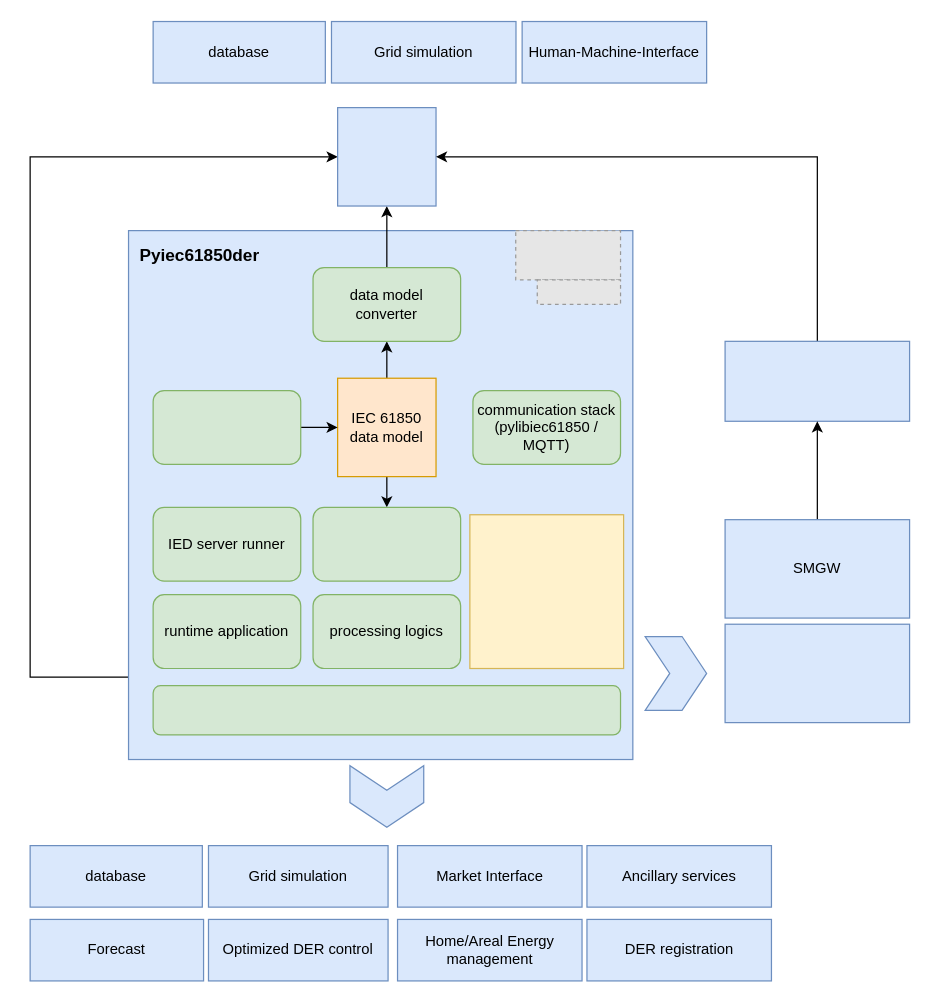
The diagram is 931 pixels wide and 1002 high, and some of its shapes have lost their labels. Grey dashed boxes stand in for pictures. The shapes that lost their labels are listed below. From the top down, each one's box as (x1, y1, x2, y2) in pixels, then its label:
(336, 106, 436, 206): SCADA Interface
(724, 340, 910, 421): SMI CLS-Backend
(152, 389, 301, 464): Dynamic data mode generator
(312, 506, 461, 581): topology builder
(469, 514, 624, 669): Python data objects (data buffers)
(724, 623, 910, 723): CLS-Box (Hardware + Docker Plattform)
(152, 684, 621, 735): Data interfaces
